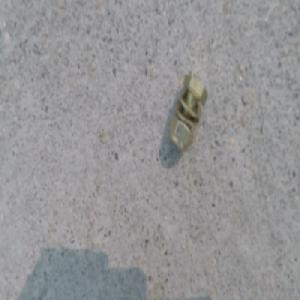BoltNutSet: (170, 69, 211, 147)
